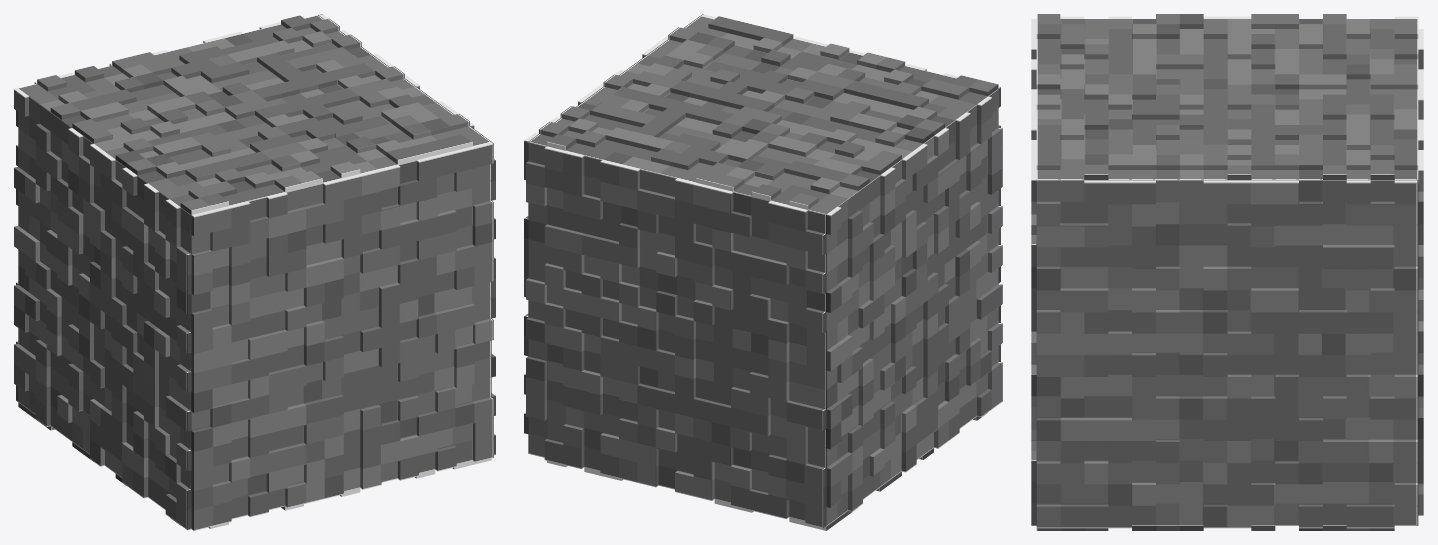
Rendered from Stone.fbx.
3 views of the same model, side by side, from view 1: azimuth 30°, elevation 25°; view 2: azimuth 150°, elevation 25°; view 3: azimuth 270°, elevation 25° (orthographic). The views are drawn at different scales.
Parts seen in each view (by area): view 1: Cube; view 2: Cube; view 3: Cube.
Boxes of the visible parts, x1=… form: Cube: x1=14, y1=14, x2=495, y2=530; Cube: x1=524, y1=14, x2=1002, y2=530; Cube: x1=1031, y1=14, x2=1423, y2=530.
Size of the model in its own units: 206 by 206 by 206.
